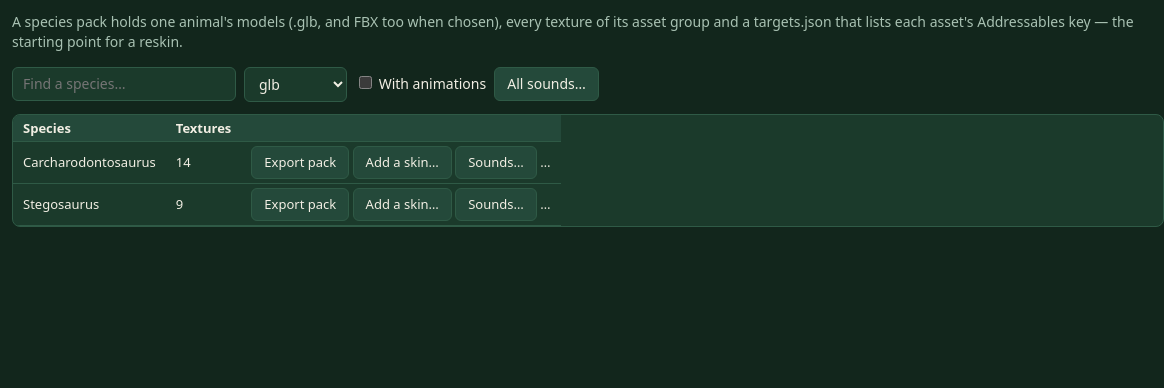
Test: SpeciesPanel › opens a species' sounds
Click the button with aria-label "Sounds of Carcharodontosaurus". click: (496, 163)
box: [455,146,537,179]
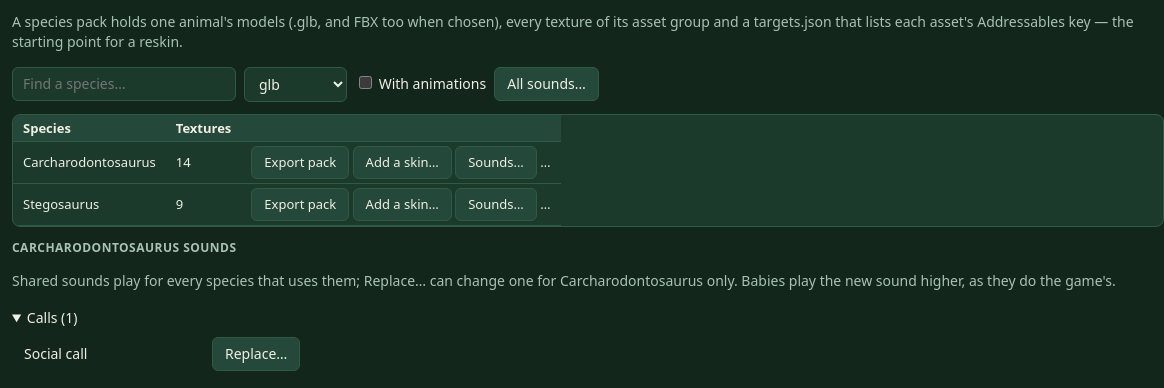
expect the text "Social call" is shown: met, box [24,344,87,363]
